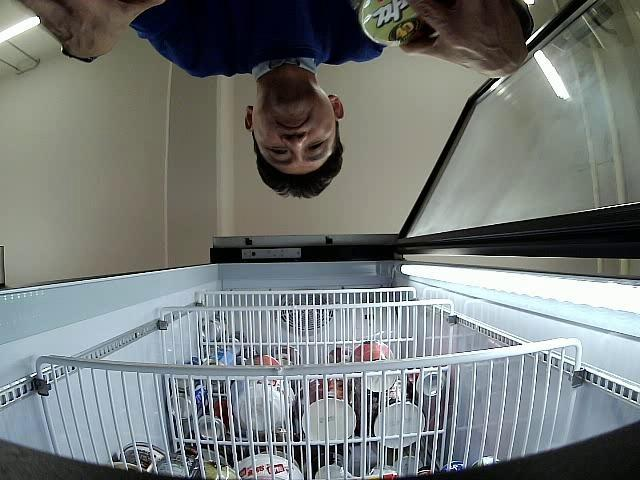03_chapagetti_L: (358, 0, 438, 47)
